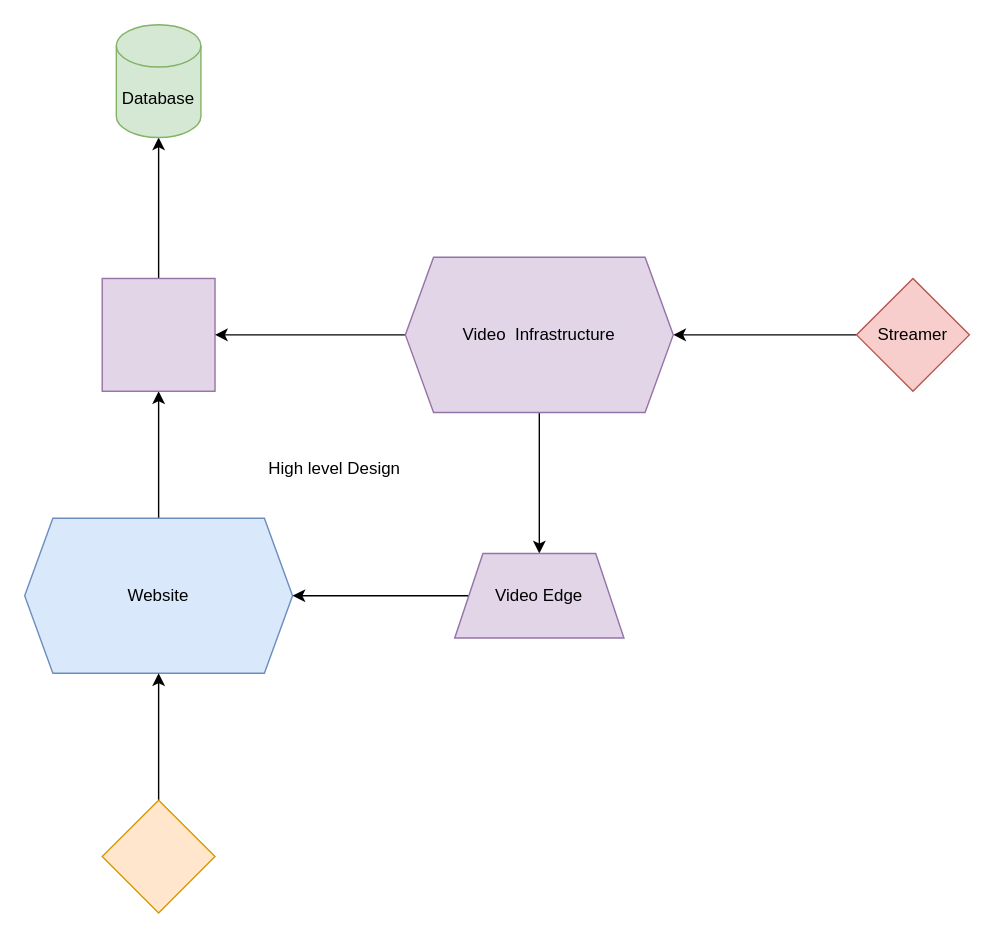
Image size: 994x938. Some labels were removed from this diagram. The shapes that lost their labels are listed below. From the top down, each one's centre as x and y in pixels, then its label:
pixel 158 334: API
pixel 158 856: Viewer
